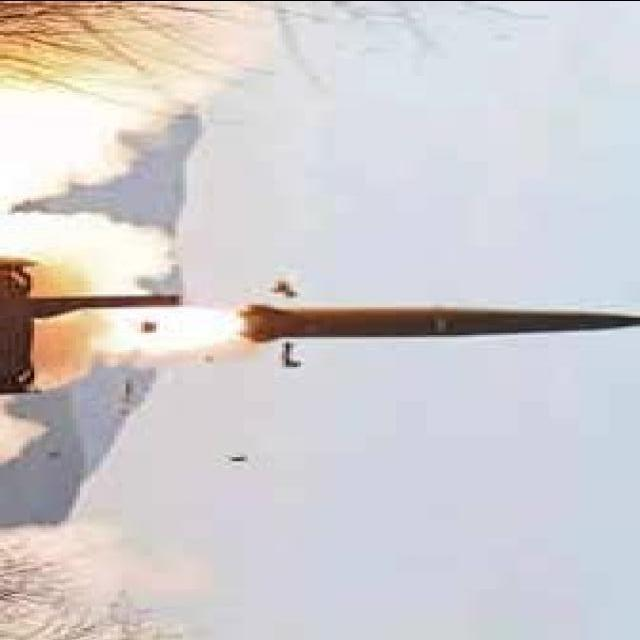Missile: (236, 298, 638, 343)
